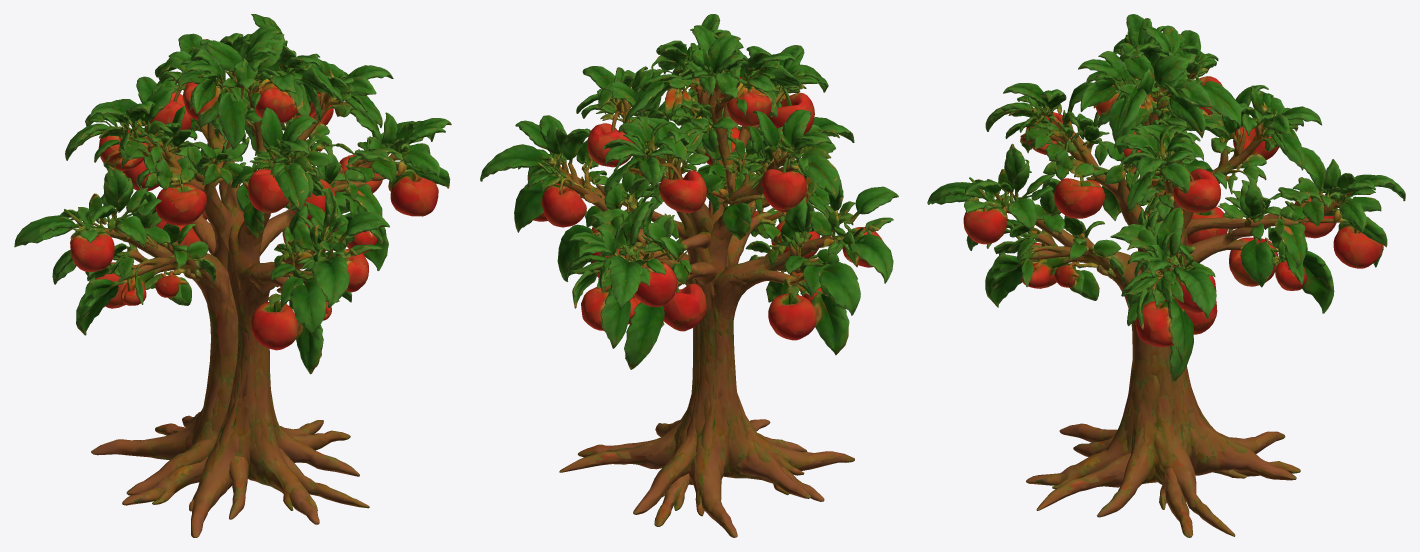
Rendered from upm_muprjsz95wh.glb.
3 renders of one model, left to right at view 1: azimuth 30°, elevation 25°; view 2: azimuth 150°, elevation 25°; view 3: azimuth 270°, elevation 25°, orthographic. The views are drawn at different scales.
Visible parts, largest first — view 1: output_unwrapped; view 2: output_unwrapped; view 3: output_unwrapped.
Part boxes in pixels (left/top/right/bottom): output_unwrapped: left=14, top=14, right=451, bottom=537; output_unwrapped: left=480, top=14, right=898, bottom=537; output_unwrapped: left=927, top=14, right=1405, bottom=537.
Size of the model in its own units: 1.84 by 1.89 by 1.84.
Materials: 1 (1 with a texture image).
